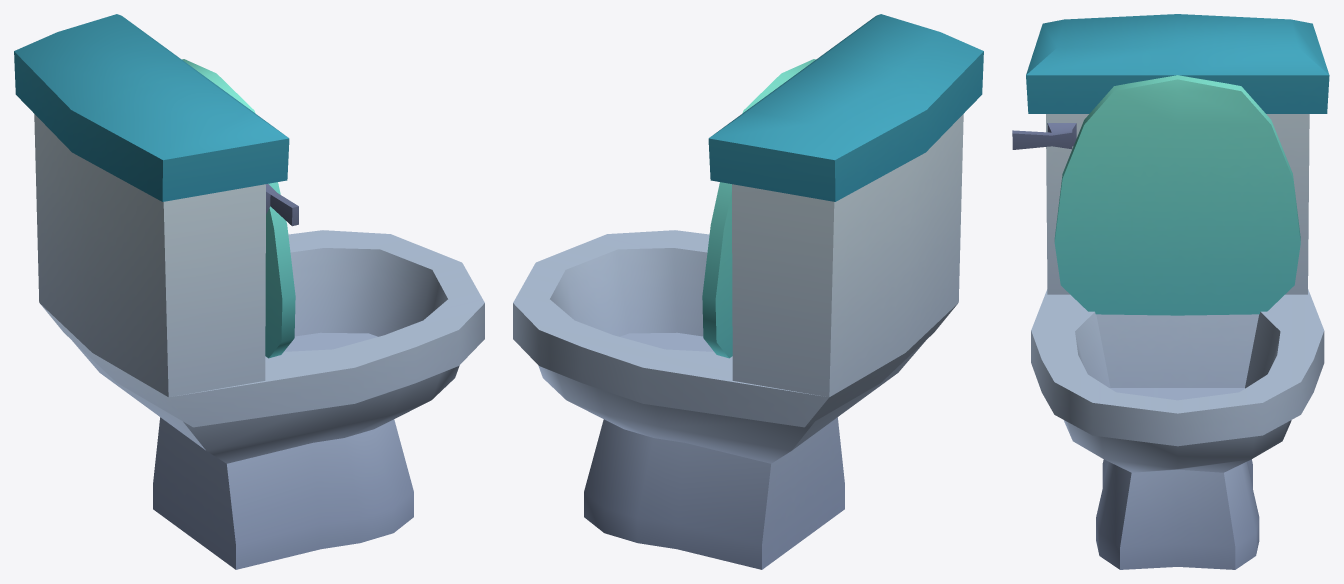
File: Toilet.fbx
3 views of the same model, side by side, from view 1: azimuth 30°, elevation 25°; view 2: azimuth 150°, elevation 25°; view 3: azimuth 270°, elevation 25° (orthographic). The views are drawn at different scales.
Parts seen in each view (by area): view 1: Toilet; view 2: Toilet; view 3: Toilet.
Boxes of the visible parts, x1,y1,x2,y2 form: Toilet: [14, 14, 484, 569]; Toilet: [513, 14, 983, 569]; Toilet: [1012, 14, 1329, 569].
Size of the model in its own units: 108 by 127 by 83.87.
